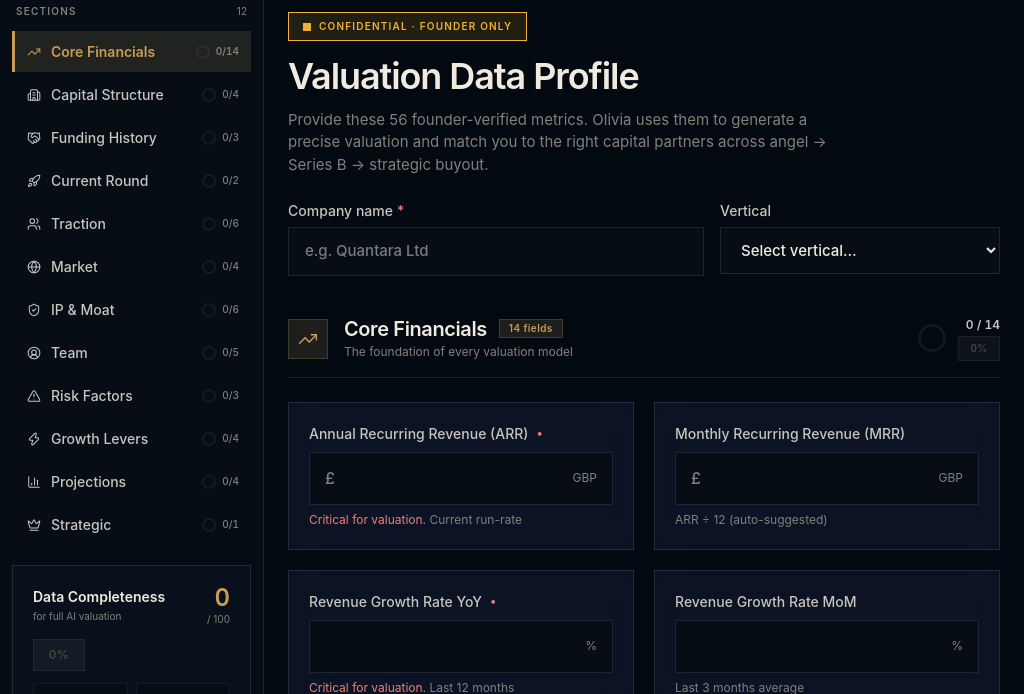
Test: IntakeForm — Q6 vertical metamorphism › swaps schedules when switching verticals
The width and height of the screenshot is (1024, 694).
Step 1. Select "AI / SaaS" in the dropdown labelled "Vertical" → coordinates (860, 251), box [720,227,1000,274]
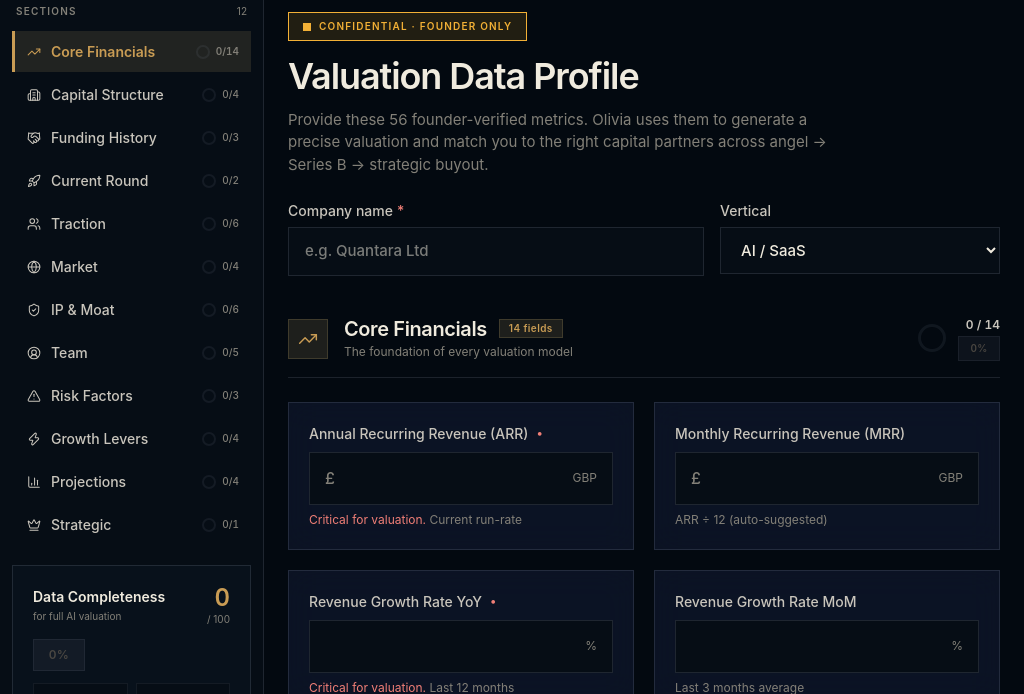
Step 2. Select "HealthTech" in the dropdown labelled "Vertical" → coordinates (860, 251), box [720,227,1000,274]
(page scrolled)
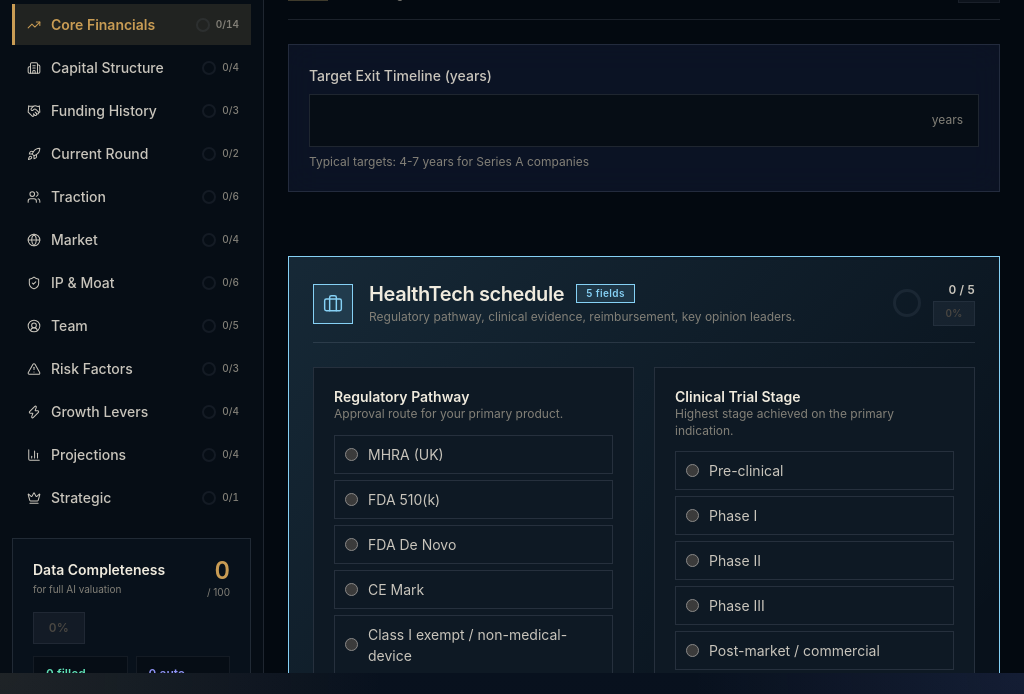
Expected: the heading "HealthTech schedule" is shown, [369,282,564,306]
Expected: the text "Regulatory pathway" is shown, [369,309,795,324]
